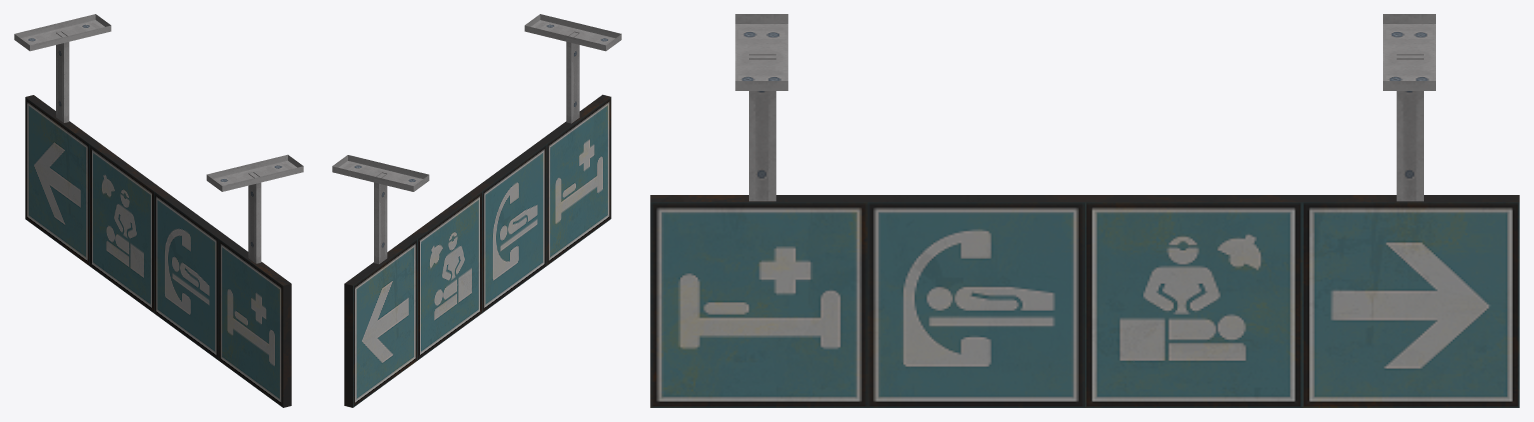
File: HH_Navigation_Sign_01.fbx
The picture shows the model from 3 angles, left to right: view 1: azimuth 30°, elevation 25°; view 2: azimuth 150°, elevation 25°; view 3: azimuth 270°, elevation 25°; orthographic projection. The views are drawn at different scales.
Parts seen in each view (by area): view 1: HH_Navigation_Sign_01; view 2: HH_Navigation_Sign_01; view 3: HH_Navigation_Sign_01.
Boxes of the visible parts, left/top/right/bottom form: HH_Navigation_Sign_01: left=14, top=14, right=303, bottom=407; HH_Navigation_Sign_01: left=332, top=14, right=621, bottom=407; HH_Navigation_Sign_01: left=650, top=14, right=1519, bottom=407.
Bounding box in the file's own units: 31.11 × 77.4 × 171.
